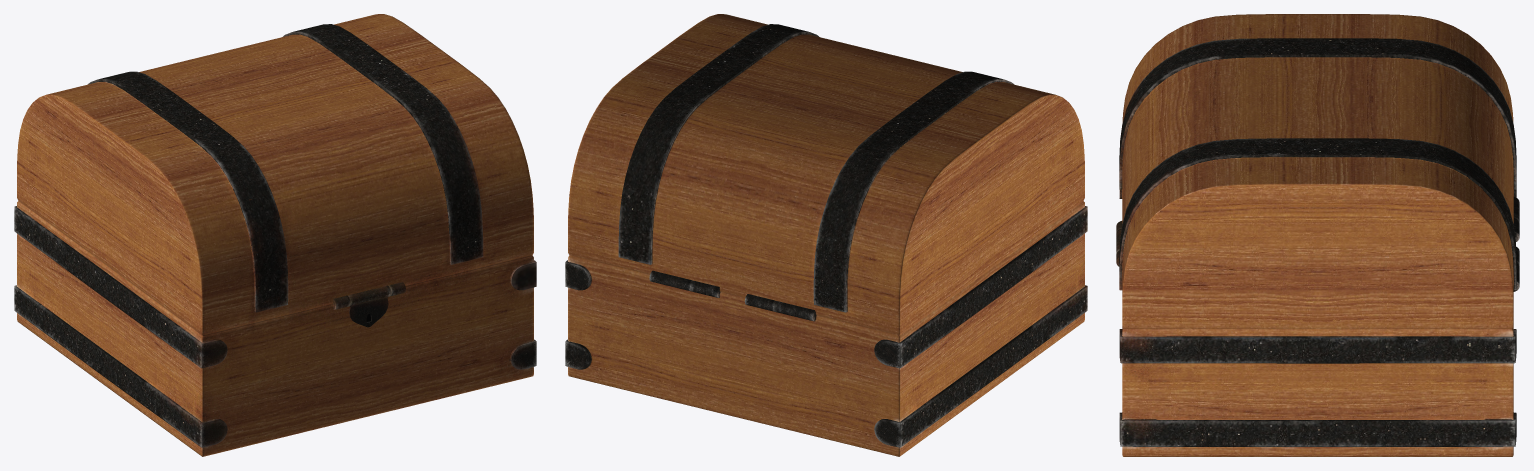
File: treasurebox.obj
The picture shows the model from 3 angles, left to right: view 1: azimuth 30°, elevation 25°; view 2: azimuth 150°, elevation 25°; view 3: azimuth 270°, elevation 25°; orthographic projection. The views are drawn at different scales.
Visible parts, largest first — view 1: _Treasure_Chest_v1_l1:_Treasure_Chest; view 2: _Treasure_Chest_v1_l1:_Treasure_Chest; view 3: _Treasure_Chest_v1_l1:_Treasure_Chest.
Boxes of the visible parts, x1,y1,x2,y2 form: _Treasure_Chest_v1_l1:_Treasure_Chest: [14, 14, 536, 456]; _Treasure_Chest_v1_l1:_Treasure_Chest: [565, 14, 1087, 456]; _Treasure_Chest_v1_l1:_Treasure_Chest: [1116, 14, 1519, 456].
Bounding box in the file's own units: 0.1701 × 0.1262 × 0.1675.
Materials: 1 (1 with a texture image).
